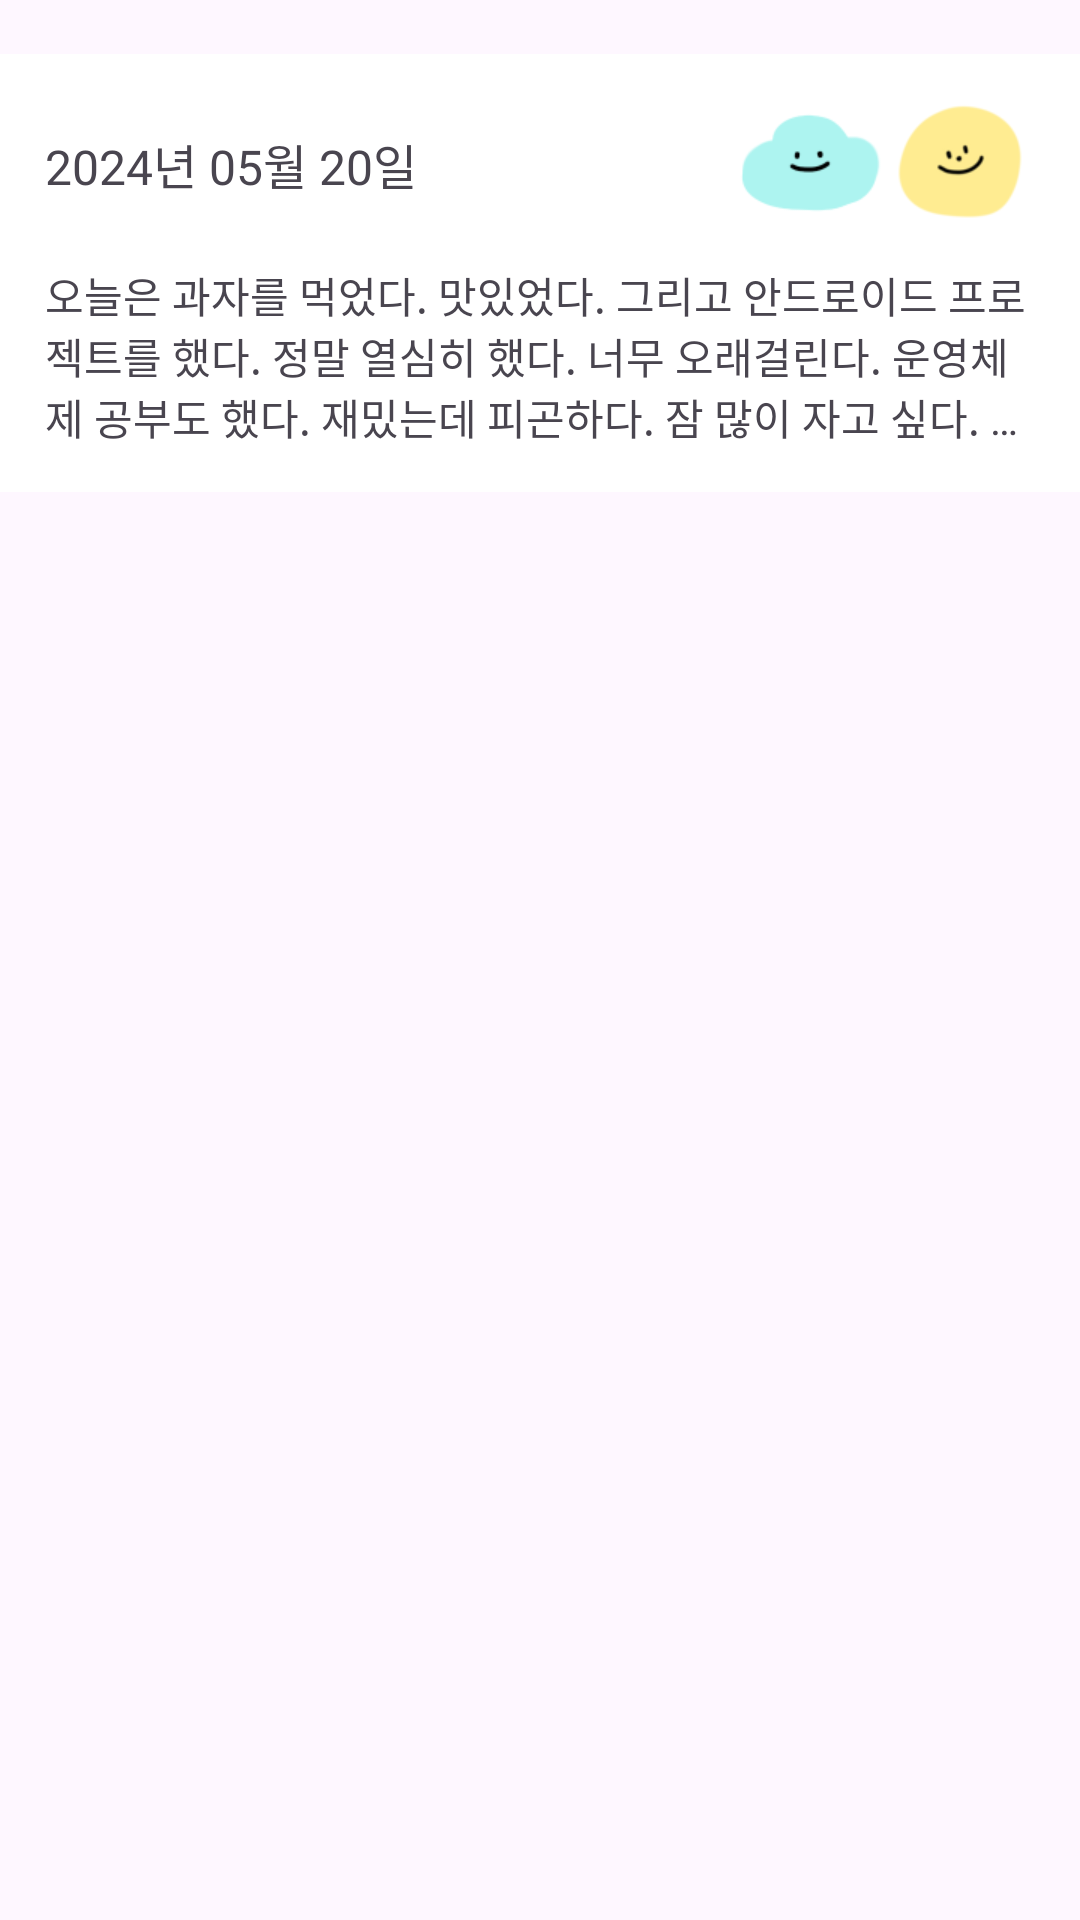

Icon bounding boxes for this 1080w x 1920h phone screenshot, format (x1, y1, x2, y2):
mood happy: (898, 106, 1021, 218)
weather cloudy: (742, 115, 879, 211)
